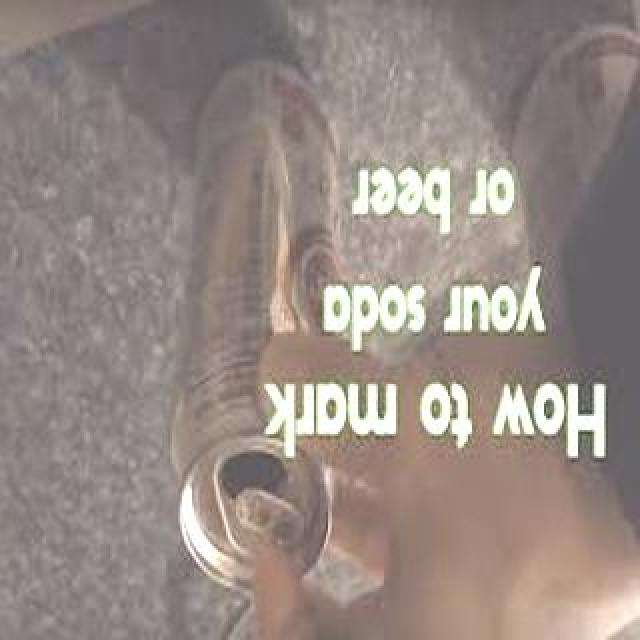Can: (170, 56, 326, 590)
